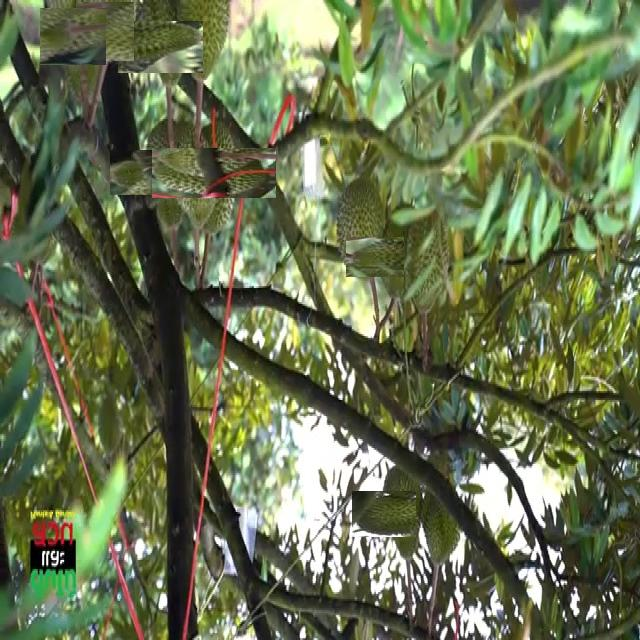durian: (171, 129, 258, 217), (128, 132, 208, 214), (169, 114, 221, 227), (334, 173, 389, 278), (366, 476, 442, 551), (404, 212, 451, 316), (174, 4, 232, 85), (126, 13, 194, 81), (360, 223, 427, 291), (416, 471, 463, 567), (41, 5, 104, 68), (75, 2, 135, 61)
